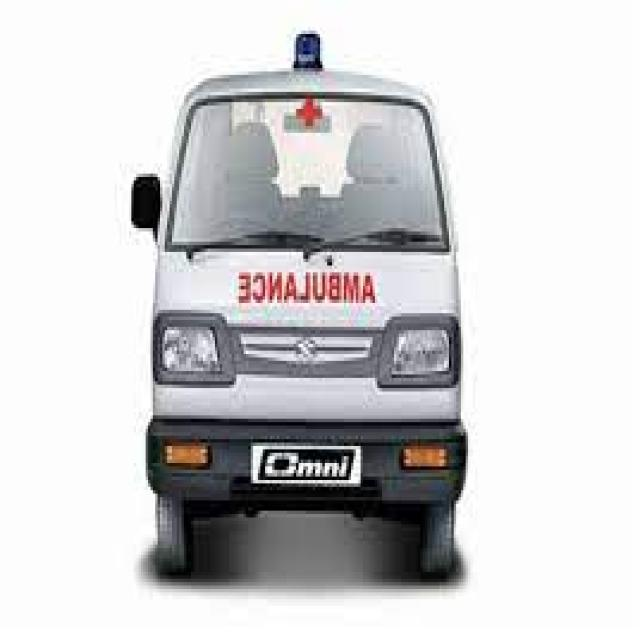ambulance: (129, 26, 476, 585)
